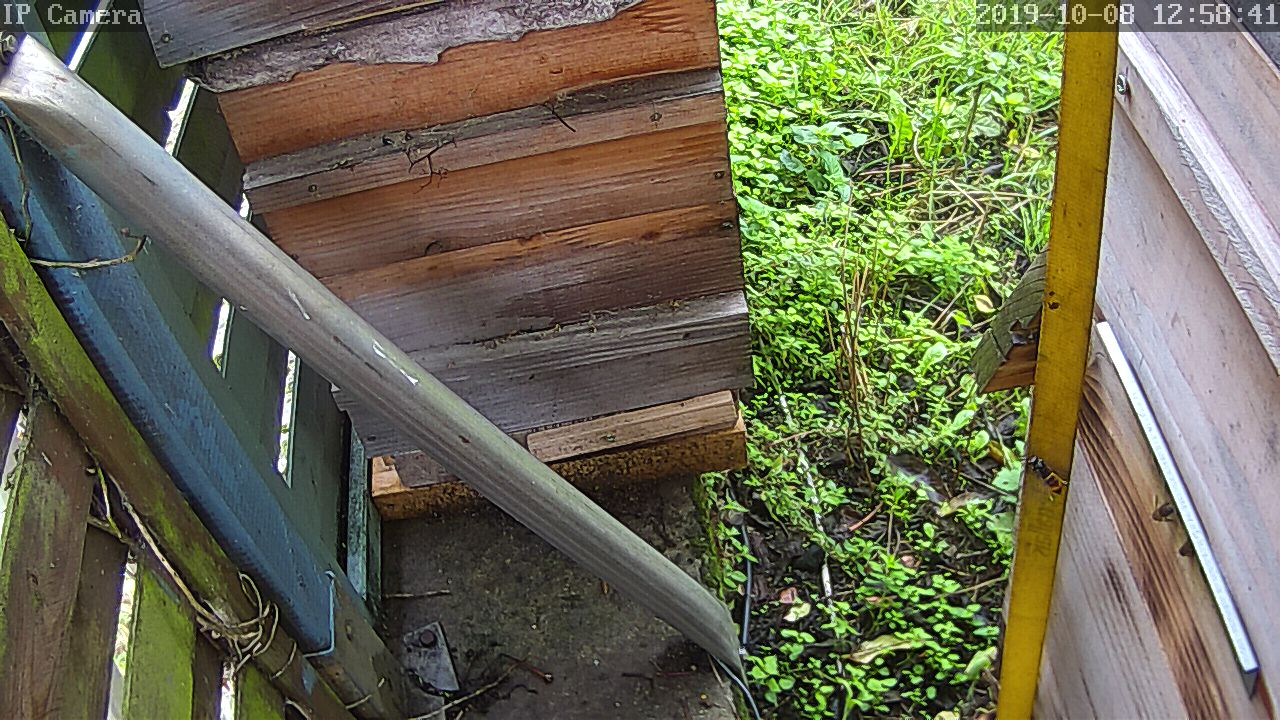bee: (1161, 527, 1197, 564), (1144, 494, 1176, 529)
hornet: (1006, 446, 1047, 498)
